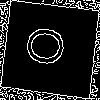O: (25, 24, 74, 69)
